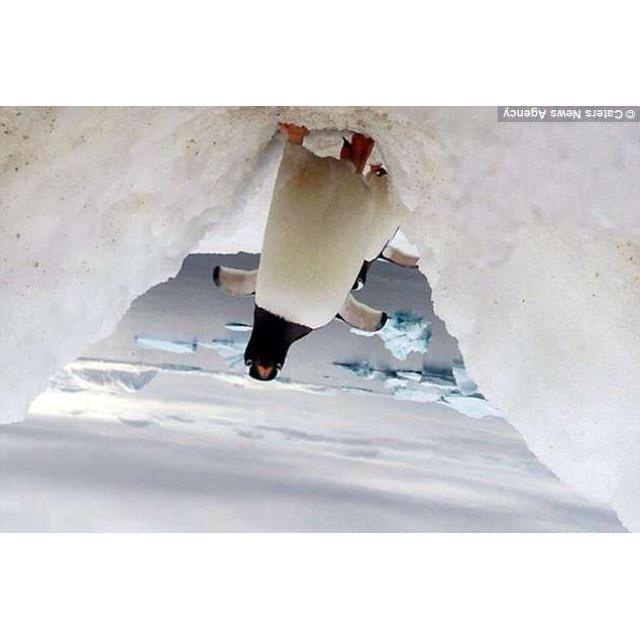penguin: (211, 123, 389, 381)
